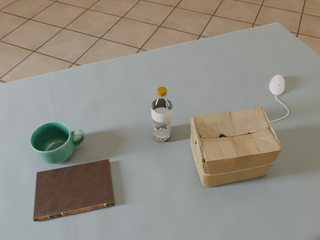book: (33, 159, 114, 221)
bottle: (151, 87, 172, 142)
box: (190, 107, 282, 187)
cup: (30, 122, 85, 164)
mouse: (269, 75, 285, 95)
